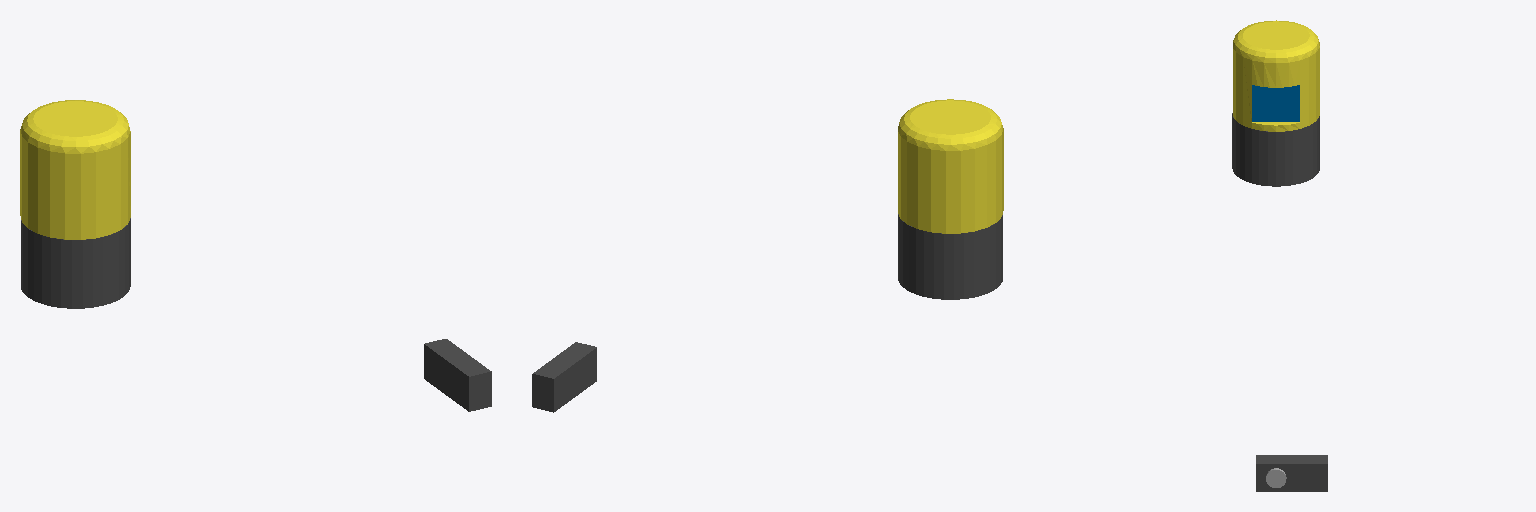
URDF robot description (camera_velodyne):
<?xml version="1.0" ?>
<!-- =================================================================================== -->
<!-- |    This document was autogenerated by xacro from camera_velodyne.urdf.xacro     | -->
<!-- |    EDITING THIS FILE BY HAND IS NOT RECOMMENDED                                 | -->
<!-- =================================================================================== -->
<robot name="camera_velodyne" xmlns:xacro="http://ros.org/wiki/xacro">
  <!-- constants for robot dimentions  -->
  <!-- inertial for box -->
  <!-- inertial for cylinder -->
  <!-- import Rviz color -->
  <material name="white">
    <color rgba="1 1 1 1"/>
  </material>
  <material name="gray">
    <color rgba="0.4 0.4 0.4 1"/>
  </material>
  <material name="lightgray">
    <color rgba="0.45 0.45 0.45 1"/>
  </material>
  <material name="ivory">
    <color rgba="0.54 0.53 0.56 1"/>
  </material>
  <material name="darkgray">
    <color rgba="0.35 0.35 0.35 1"/>
  </material>
  <material name="black">
    <color rgba="0.2 0.2 0.2 1"/>
  </material>
  <material name="laser_black">
    <color rgba="0.1 0.1 0.1 0.0.6"/>
  </material>
  <material name="blue">
    <color rgba="0 0 0.8 1"/>
  </material>
  <material name="red">
    <color rgba="0.8 0 0 1"/>
  </material>
  <material name="green">
    <color rgba="0 0.8 0 1"/>
  </material>
  <material name="yellow">
    <color rgba="0.8 0.8 0 1"/>
  </material>
  <material name="cyan">
    <color rgba="0 0.8 0.8 0.8"/>
  </material>
  <material name="purple">
    <color rgba="0.8 0 0.8 1"/>
  </material>
  <!-- import all Gazebo-customization elements, including Gazebo colors -->
  <gazebo reference="velodyne_base_link">
    <material>Gazebo/Gold</material>
    <mu1>0.0</mu1>
    <mu2>0.0</mu2>
  </gazebo>
  <gazebo reference="velodyne_top_link">
    <material>Gazebo/Gold</material>
    <mu1>0.0</mu1>
    <mu2>0.0</mu2>
  </gazebo>
  <gazebo reference="velodyne_laser_link">
    <material>Gazebo/Black</material>
  </gazebo>
  <gazebo reference="camera_base_link">
    <material>Gazebo/Gray</material>
  </gazebo>
  <gazebo reference="lens_link">
    <material>Gazebo/Black</material>
  </gazebo>
  <!-- velodyne -->
  <gazebo reference="velodyne_laser_core_link">
    <sensor name="head_velodyne_sensor" type="ray">
      <visualize>false</visualize>
      <update_rate>1</update_rate>
      <ray>
        <scan>
          <horizontal>
            <samples>1080</samples>
            <resolution>1</resolution>
            <min_angle>-3.1415</min_angle>
            <max_angle>3.1415</max_angle>
          </horizontal>
          <vertical>
            <samples>32</samples>
            <resolution>1</resolution>
            <min_angle>-0.186227</min_angle>
            <max_angle>0.535292</max_angle>
          </vertical>
        </scan>
        <range>
          <min>0.10</min>
          <max>70.0</max>
          <resolution>0.01</resolution>
        </range>
        <noise>
          <type>gaussian</type>
          <mean>0.0</mean>
          <stddev>0.01</stddev>
        </noise>
      </ray>
      <plugin filename="libgazebo_ros_block_laser.so" name="gazebo_ros_head_velodyne_controller">
        <alwaysOn>true</alwaysOn>
        <updateRate>1</updateRate>
        <topicName>velodyne_points</topicName>
        <frameName>velodyne_laser_core_link</frameName>
      </plugin>
    </sensor>
  </gazebo>
  <!-- camera -->
  <gazebo reference="lens_link">
    <sensor name="camera1" type="camera">
      <update_rate>30.0</update_rate>
      <camera name="usb_cam">
        <horizontal_fov>1.3962634</horizontal_fov>
        <image>
          <width>800</width>
          <height>800</height>
          <format>R8G8B8</format>
        </image>
        <clip>
          <near>0.02</near>
          <far>300</far>
        </clip>
        <noise>
          <type>gaussian</type>
          <!-- Noise is sampled independently per pixel on each frame.
					That pixel's noise value is added to each of its color
					channels, which at that point lie in the range [0,1]. -->
          <mean>0.0</mean>
          <stddev>0.007</stddev>
        </noise>
      </camera>
      <plugin filename="libgazebo_ros_camera.so" name="camera_controller">
        <alwaysOn>true</alwaysOn>
        <updateRate>0.0</updateRate>
        <cameraName>usb_cam</cameraName>
        <imageTopicName>image_raw</imageTopicName>
        <cameraInfoTopicName>camera_info</cameraInfoTopicName>
        <frameName>lens_link</frameName>
        <hackBaseline>0.07</hackBaseline>
        <distortionK1>0.0</distortionK1>
        <distortionK2>0.0</distortionK2>
        <distortionK3>0.0</distortionK3>
        <distortionT1>0.0</distortionT1>
        <distortionT2>0.0</distortionT2>
      </plugin>
    </sensor>
  </gazebo>
  <!-- ros_control plugin -->
  <gazebo>
    <plugin filename="libgazebo_ros_control.so" name="gazebo_ros_control">
      <robotNamespace>/infant</robotNamespace>
    </plugin>
  </gazebo>
  <link name="world"/>
  <joint name="fixed" type="fixed">
    <parent link="world"/>
    <child link="base_link"/>
    <origin rpy="0 0 0" xyz="0 0 0"/>
  </joint>
  <!-- camera velodyne model  -->
  <link name="base_link"/>
  <joint name="base2velodyne_base" type="fixed">
    <parent link="base_link"/>
    <child link="velodyne_base_link"/>
    <origin rpy="0 0 0" xyz="0 0 1.26415665"/>
  </joint>
  <!-- velodyne -->
  <link name="velodyne_base_link">
    <visual>
      <geometry>
        <cylinder length="0.058674" radius="0.042672"/>
      </geometry>
      <origin rpy="0 0 0" xyz="0 0 0.029337"/>
      <material name="darkgray"/>
    </visual>
    <collision>
      <geometry>
        <cylinder length="0.058674" radius="0.042672"/>
      </geometry>
      <origin rpy="0 0 0" xyz="0 0 0.029337"/>
    </collision>
    <inertial>
      <origin rpy="0 0 0" xyz="0.0 0.0 0.029337"/>
      <mass value="1.0"/>
      <inertia ixx="1.0" ixy="0.0" ixz="0.0" iyy="1.0" iyz="0.0" izz="1.0"/>
    </inertial>
  </link>
  <joint name="velodyne_top_joint" type="continuous">
    <parent link="velodyne_base_link"/>
    <child link="velodyne_top_link"/>
    <origin rpy="0 0 0" xyz="0 0 0.058674"/>
    <axis xyz="0 0 1"/>
  </joint>
  <link name="velodyne_top_link">
    <visual>
      <geometry>
        <mesh filename="package://camera_velodyne_calibration_gazebo/meshes/velodyne_top.dae"/>
      </geometry>
      <origin rpy="1.570796 0 0" xyz="0 0 0"/>
    </visual>
    <collision>
      <geometry>
        <cylinder length="0.0835714" radius="0.042672"/>
      </geometry>
      <origin rpy="0 0 0" xyz="0 0 0.0417857"/>
    </collision>
    <inertial>
      <origin rpy="0 0 0" xyz="0.0 0.0 0.0417857"/>
      <mass value="0.0001"/>
      <inertia ixx="1.0" ixy="0.0" ixz="0.0" iyy="1.0" iyz="0.0" izz="1.0"/>
    </inertial>
  </link>
  <joint name="velodyne_laser_joint" type="fixed">
    <parent link="velodyne_top_link"/>
    <child link="velodyne_laser_link"/>
    <origin rpy="0 0 0" xyz="0 0 0.02716935"/>
  </joint>
  <link name="velodyne_laser_link">
    <visual>
      <geometry>
        <box size="0.03475311 0.0468099 0.0404979"/>
      </geometry>
      <origin rpy="0 0 0" xyz="0.017376555 0 0"/>
      <material name="lase_black"/>
    </visual>
    <collision>
      <geometry>
        <box size="0.03475311 0.0468099 0.0404979"/>
      </geometry>
      <origin rpy="0 0 0" xyz="0.017376555 0 0"/>
    </collision>
    <inertial>
      <origin rpy="0 0 0" xyz="0.017376555 0.0 0.0"/>
      <mass value="0.0001"/>
      <inertia ixx="1.0" ixy="0.0" ixz="0.0" iyy="1.0" iyz="0.0" izz="1.0"/>
    </inertial>
  </link>
  <joint name="velodyne_base2velodyne_laser_core" type="fixed">
    <parent link="velodyne_base_link"/>
    <child link="velodyne_laser_core_link"/>
    <origin rpy="0 0 0" xyz="0 0 0.08584335"/>
  </joint>
  <link name="velodyne_laser_core_link"/>
  <!-- monocular camera -->
  <joint name="base2camera" type="fixed">
    <parent link="base_link"/>
    <child link="camera_base_link"/>
    <origin rpy="0 0 0" xyz="0.35 0.015 1.1"/>
  </joint>
  <link name="camera_base_link">
    <visual>
      <geometry>
        <box size="0.020 0.070 0.030"/>
      </geometry>
      <origin rpy="0 0 0" xyz="0 0 0"/>
      <material name="darkgray"/>
    </visual>
    <inertial>
      <origin rpy="0 0 0" xyz="0.0 0.0 0.0"/>
      <mass value="0.01"/>
      <inertia ixx="1.0" ixy="0.0" ixz="0.0" iyy="1.0" iyz="0.0" izz="1.0"/>
    </inertial>
  </link>
  <joint name="camera_base2lens" type="fixed">
    <parent link="camera_base_link"/>
    <child link="lens_link"/>
    <origin rpy="0 0 0" xyz="0 -0.015 0"/>
  </joint>
  <link name="lens_link">
    <visual>
      <geometry>
        <cylinder length="0.017" radius="0.010"/>
      </geometry>
      <origin rpy="0 1.570796 0" xyz="0.005 0 0"/>
      <material name="laser_black"/>
    </visual>
    <inertial>
      <origin rpy="0 0 0" xyz="0.005 0.0 0.0"/>
      <mass value="0.0001"/>
      <inertia ixx="1.0" ixy="0.0" ixz="0.0" iyy="1.0" iyz="0.0" izz="1.0"/>
    </inertial>
  </link>
  <transmission name="velodyne_top_trans">
    <type>transmission_interface/SimpleTransmission</type>
    <joint name="velodyne_top_joint">
      <hardwareInterface>VelocityJointInterface</hardwareInterface>
    </joint>
    <actuator name="velodyne_top_motor">
      <hardwareInterface>VelocityJointInterface</hardwareInterface>
      <mechanicalReduction>1</mechanicalReduction>
    </actuator>
  </transmission>
</robot>

--- What the picture shows (computed from the rendered views, not written in the file) ---
The picture shows the robot from 3 angles, left to right: view 1: azimuth 30°, elevation 25°; view 2: azimuth 150°, elevation 25°; view 3: azimuth 270°, elevation 25°; orthographic projection.
Robot: camera_velodyne — 8 links, 7 joints (1 continuous, 6 fixed); root link world; default pose: every joint at zero.
Visible links, largest first — view 1: velodyne_top_link, velodyne_base_link, camera_base_link; view 2: velodyne_top_link, velodyne_base_link, camera_base_link; view 3: velodyne_top_link, velodyne_base_link, camera_base_link, velodyne_laser_link.
Link boxes in pixels (x1,y1,x2,y2): velodyne_top_link: (20, 100, 130, 239); velodyne_base_link: (21, 218, 130, 308); camera_base_link: (424, 339, 491, 411); velodyne_top_link: (898, 99, 1003, 233); velodyne_base_link: (898, 214, 1002, 299); camera_base_link: (532, 342, 596, 412); velodyne_top_link: (1233, 20, 1319, 131); velodyne_base_link: (1232, 113, 1319, 186); camera_base_link: (1256, 455, 1327, 491); velodyne_laser_link: (1252, 85, 1299, 121).
Size in the robot's own frame: 0.4062 by 0.0927 by 0.3214 metres.
Meshes: 1 distinct files referenced, 1 mesh visuals loaded (1 Collada DAE).
